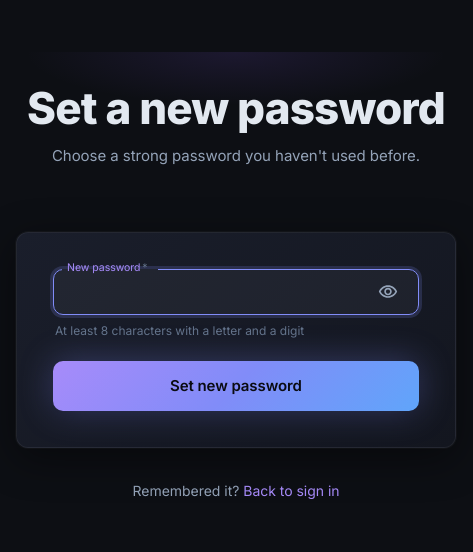
Test: ResetPasswordPage › shows generic error message for non-ApiError failures
Type "AnyPass1!" into the password field labelled "New password *" at (209, 292), box [53,270,365,315]
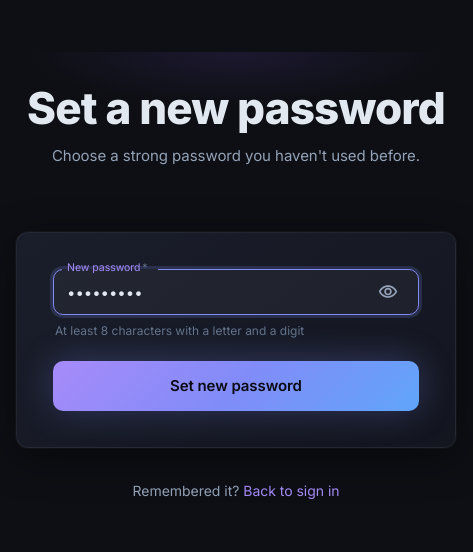
Click the button "Set new password" at (236, 386), box [53,361,419,411]
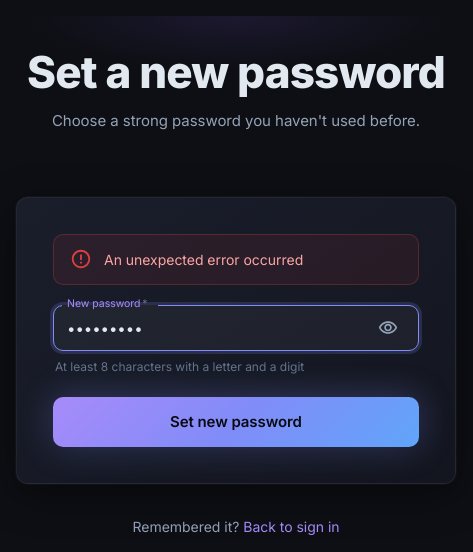
Expected: the text "An unexpected error occurred" is shown, [104,251,303,268]
